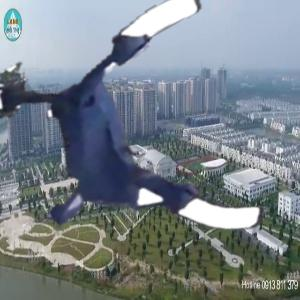drone: (3, 15, 269, 281)
